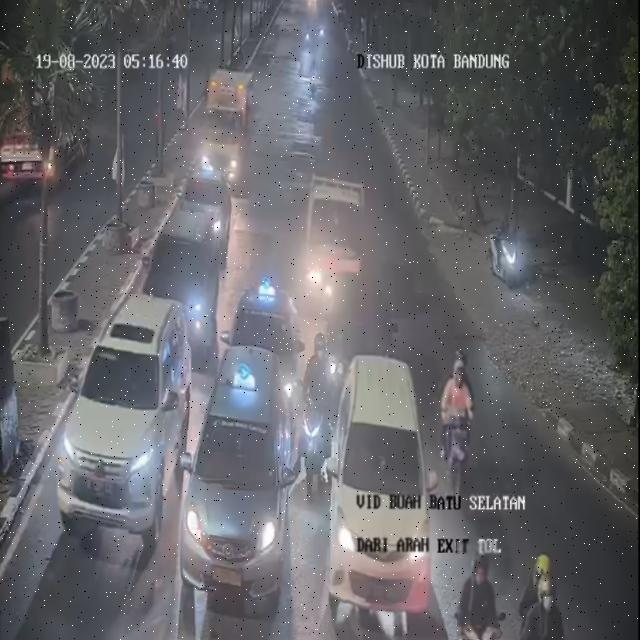cars: (52, 297, 187, 554), (182, 344, 296, 617), (332, 352, 436, 628), (282, 162, 379, 328), (143, 201, 223, 357), (220, 282, 301, 433), (181, 168, 232, 256)
motorcycle: (438, 348, 478, 482), (300, 330, 338, 466), (518, 544, 570, 640), (458, 541, 500, 639)
truck: (197, 69, 251, 193)
